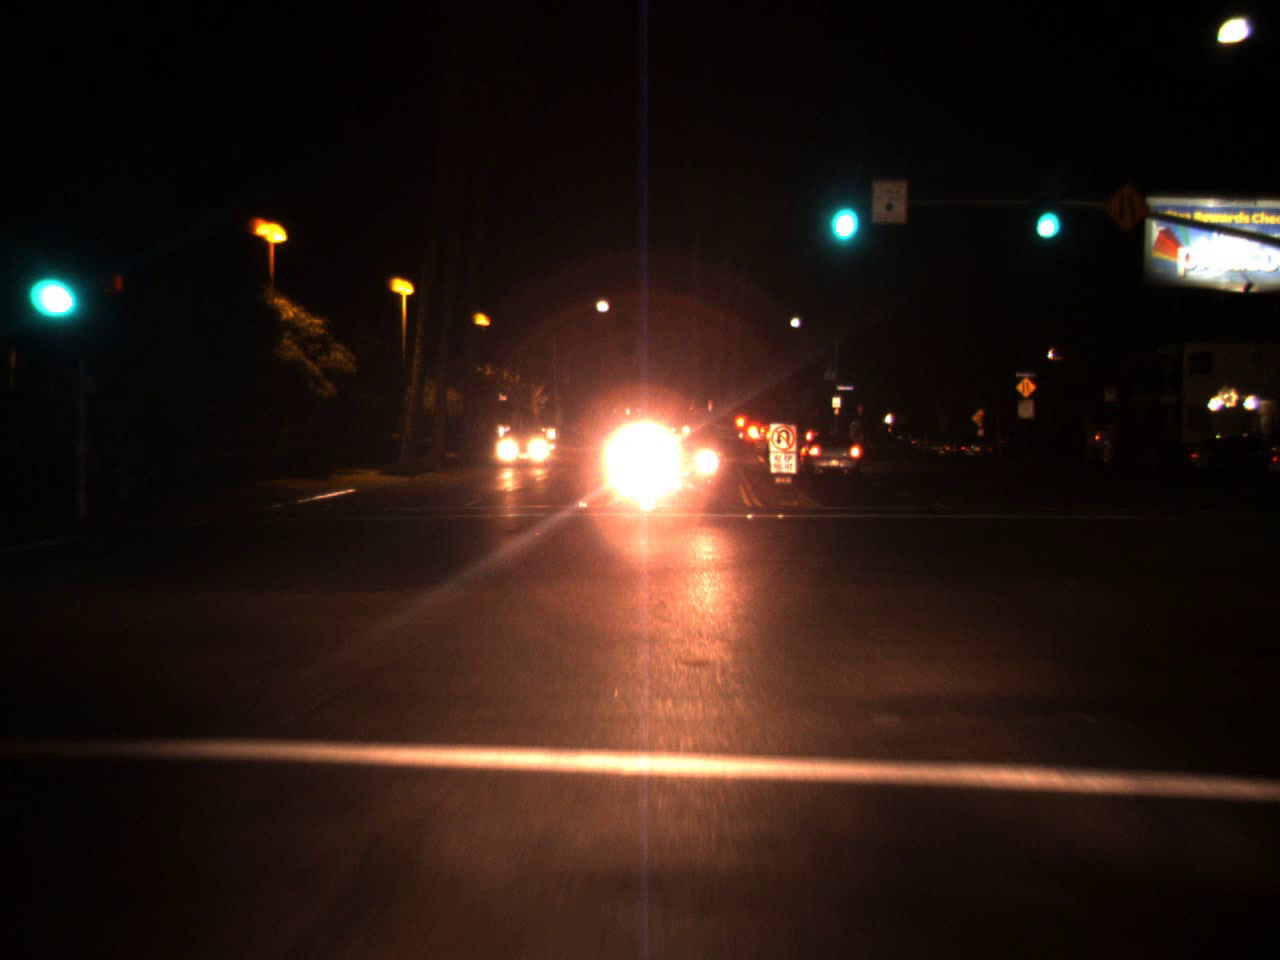go: (819, 166, 865, 253), (29, 246, 79, 324), (1028, 179, 1064, 248)
